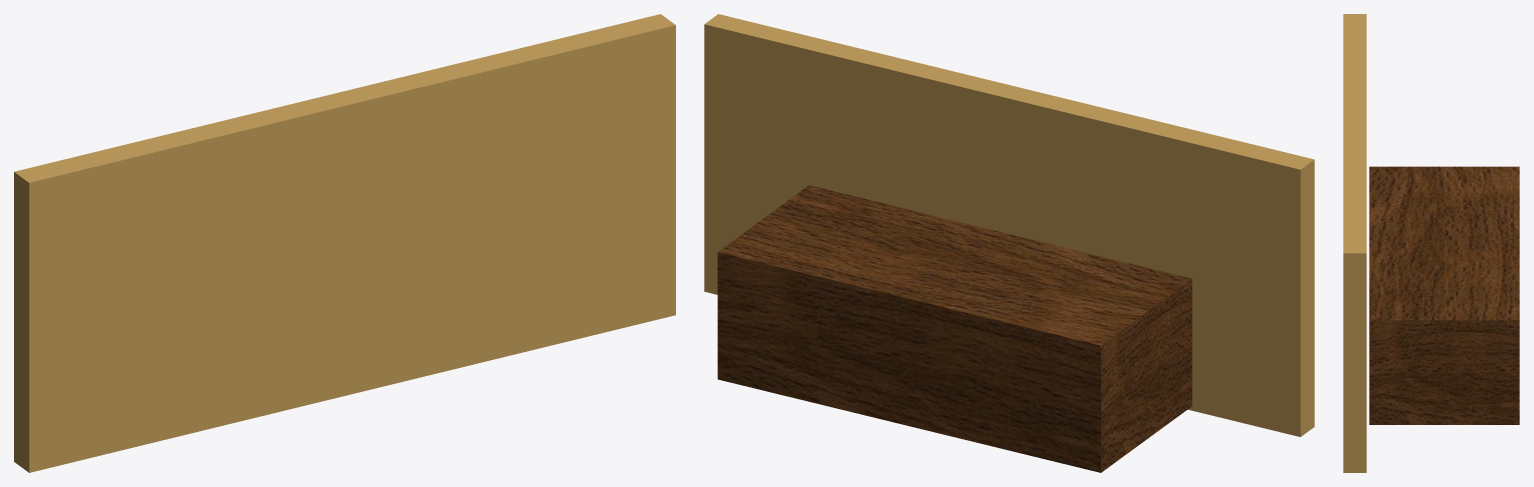
File: plaque.glb
3 renders of one model, left to right at view 1: azimuth 30°, elevation 25°; view 2: azimuth 150°, elevation 25°; view 3: azimuth 270°, elevation 25°, orthographic. The views are drawn at different scales.
Parts seen in each view (by area): view 1: plaque; view 2: plaque; view 3: plaque.
Part boxes in pixels (box(x1,y1,x2,y2)): plaque: box(14, 14, 675, 472); plaque: box(704, 14, 1314, 472); plaque: box(1343, 14, 1519, 472).
Size of the model in its own units: 0.098 by 0.042 by 0.0305.
2 materials, 1 textured.
